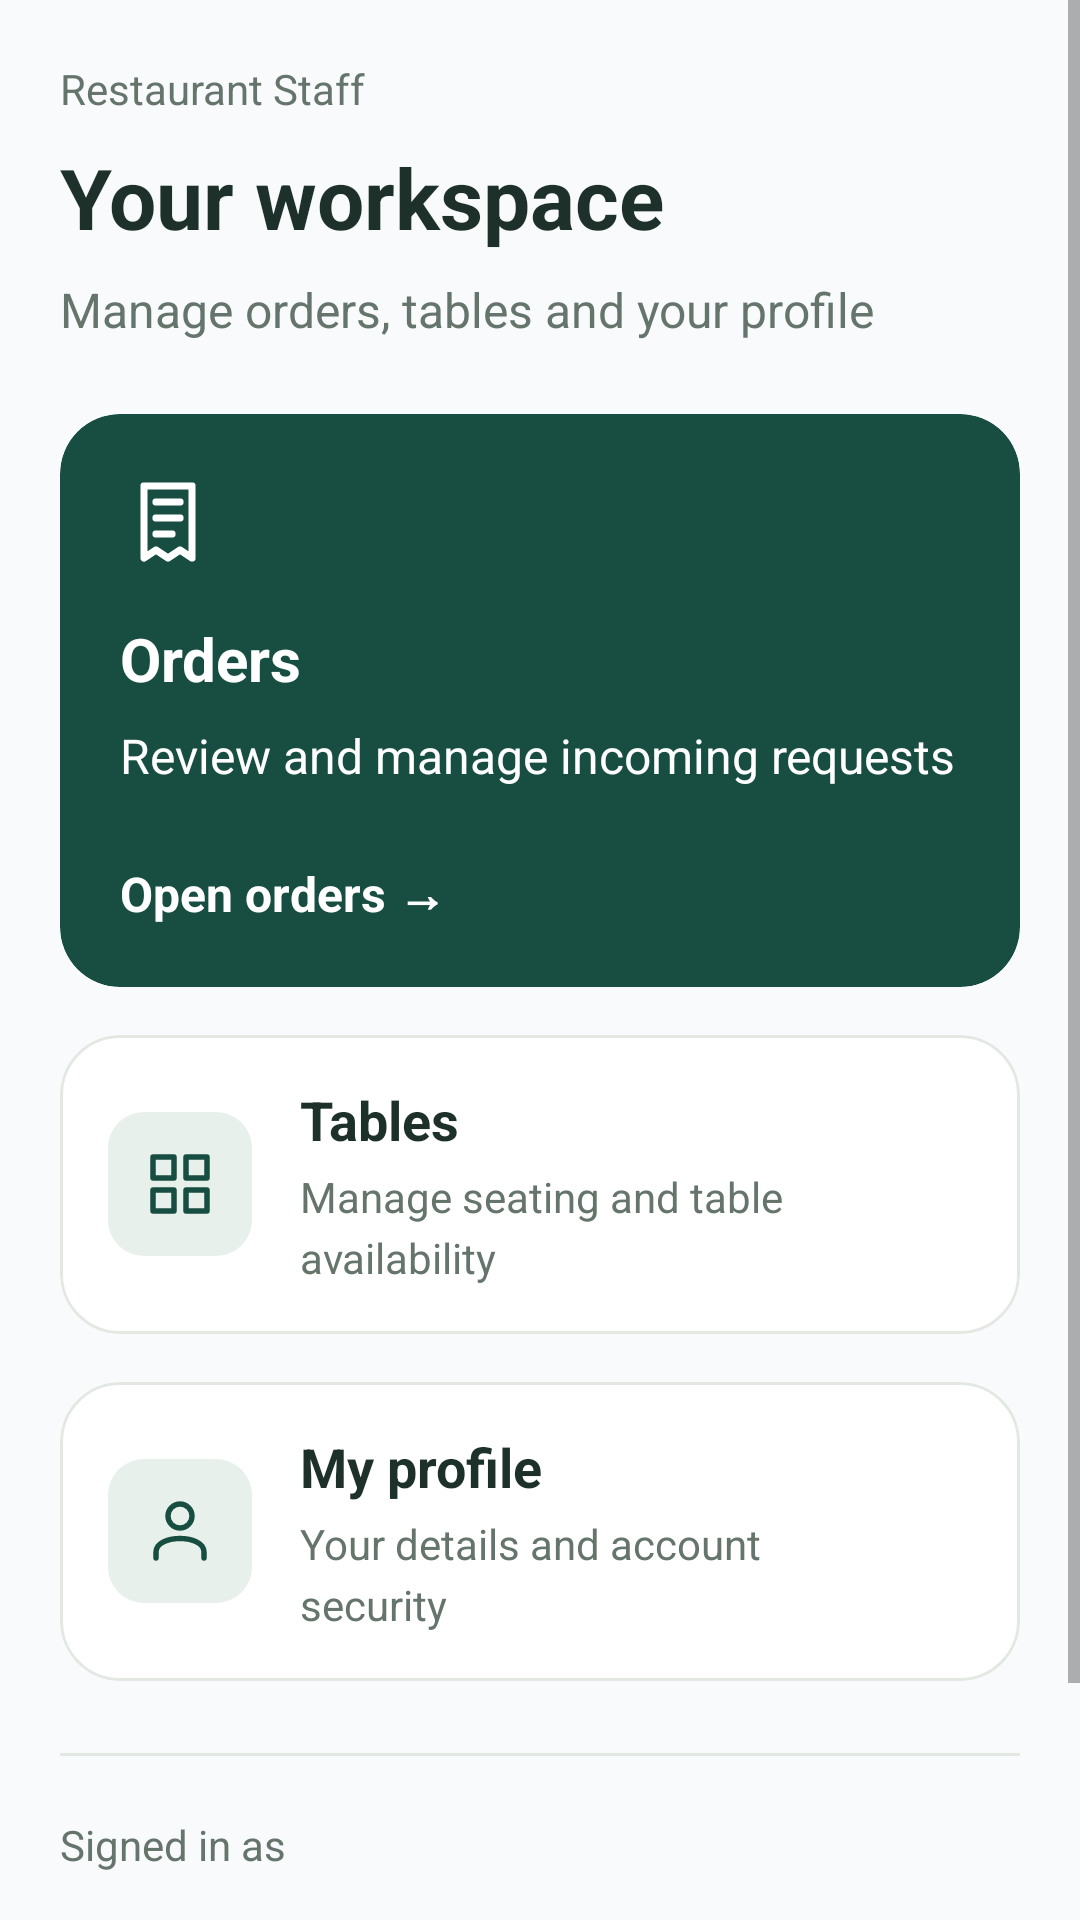

Point at icon controls on the screen. Image size 1080*1920, points as point (x, y).
staff profile: point (180, 1531)
